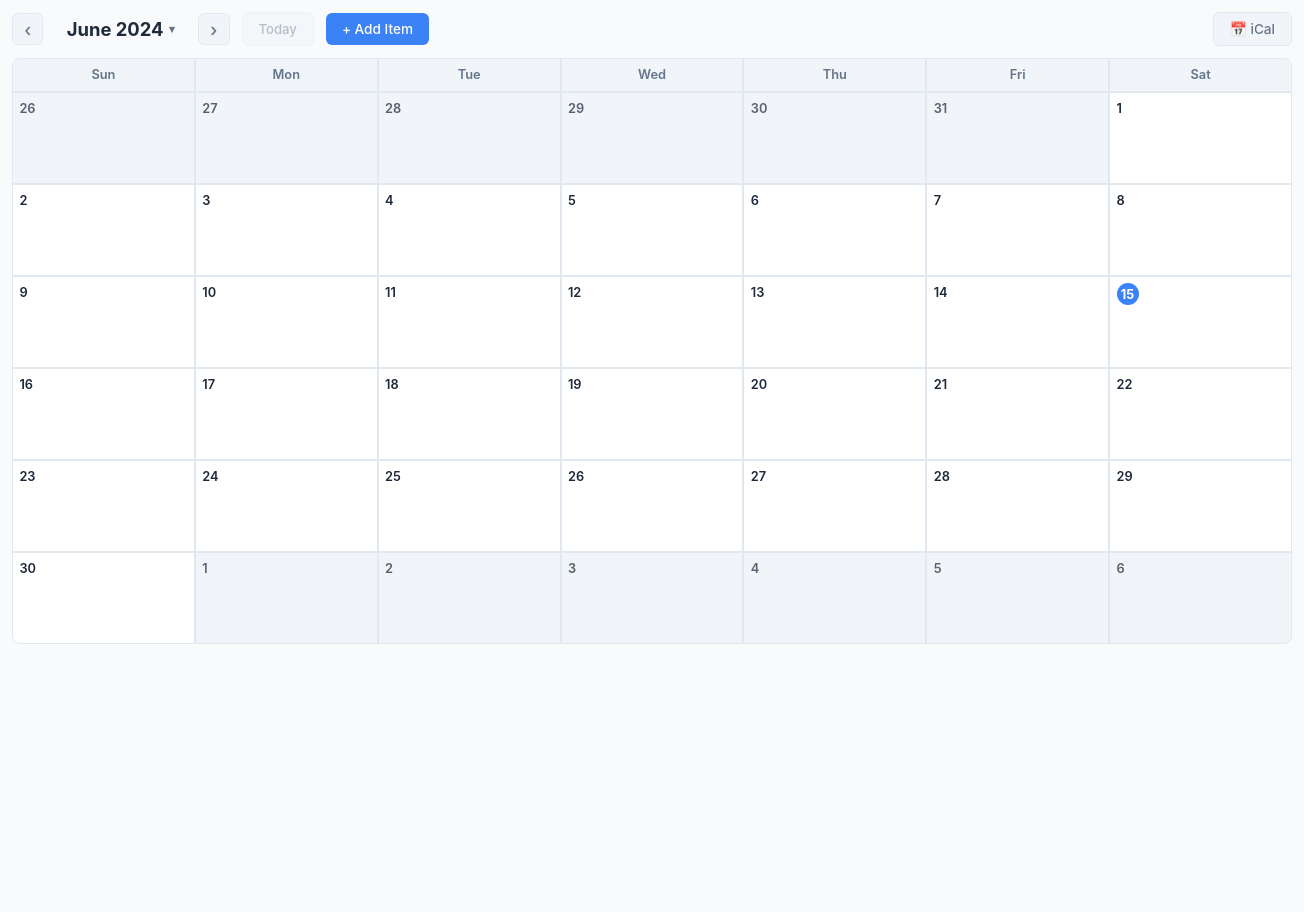
Test: CalendarView › navigates to next month
Click the button with class "nav-btn" showing "›" at (214, 29), box top-left (198, 13), bottom-right (230, 45)
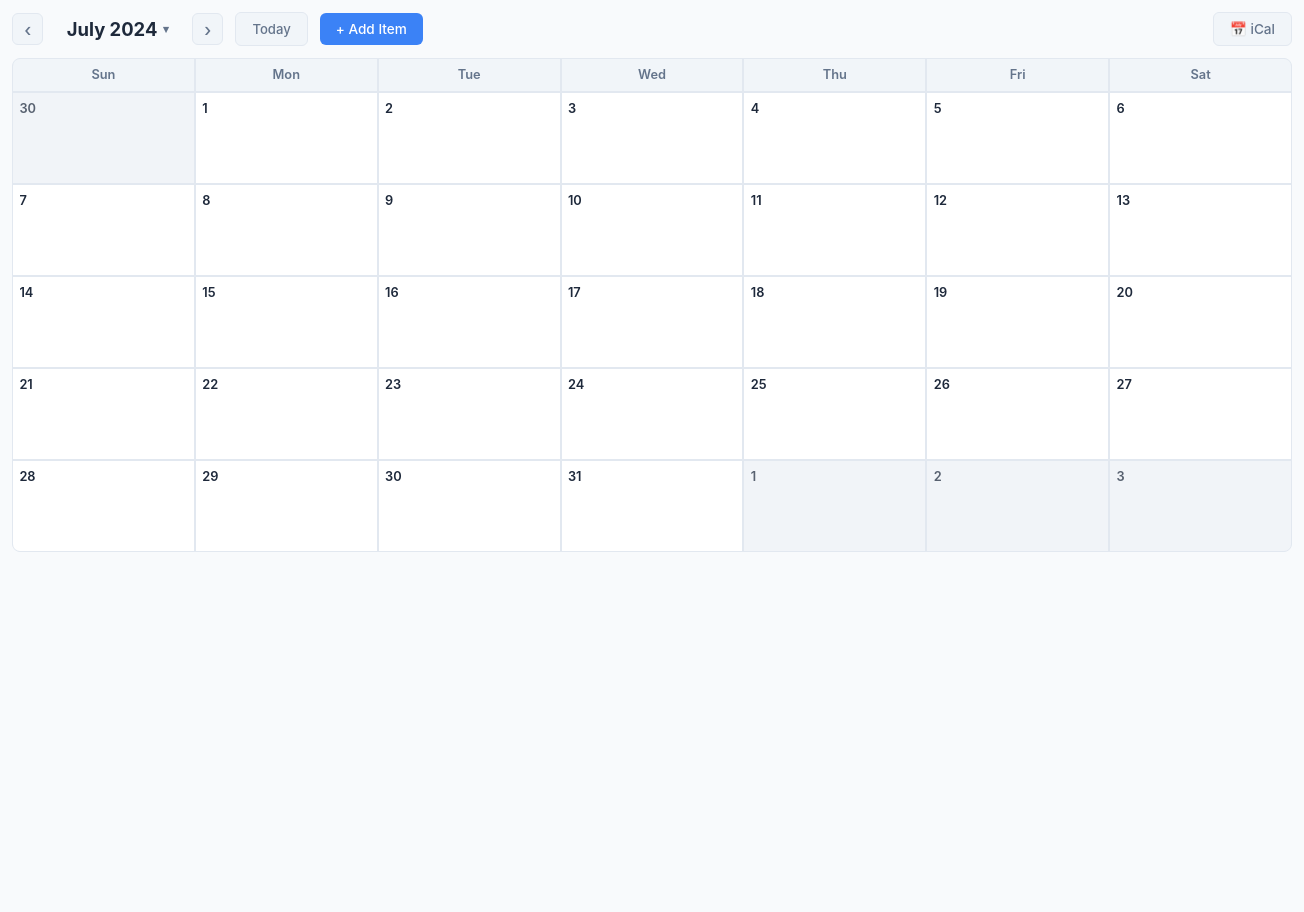
expect the text "July 2024" is shown: met, box top-left (55, 12), bottom-right (180, 46)
